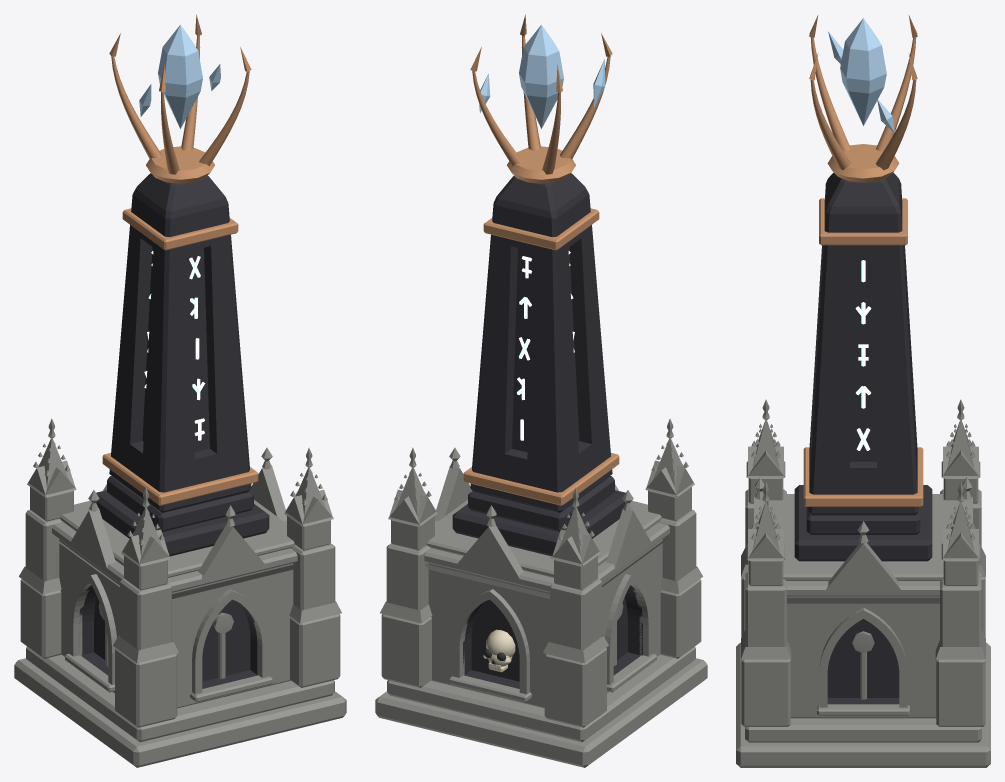
File: tower_storm_1.glb
3 renders of one model, left to right at view 1: azimuth 30°, elevation 25°; view 2: azimuth 150°, elevation 25°; view 3: azimuth 270°, elevation 25°, orthographic. The views are drawn at different scales.
Parts seen in each view (by area): view 1: tower, crystal; view 2: tower, crystal; view 3: tower, crystal.
Part boxes in pixels (left/top/right/bottom): tower: left=14, top=14, right=346, bottom=767; crystal: left=139, top=24, right=220, bottom=128; tower: left=375, top=14, right=707, bottom=767; crystal: left=479, top=24, right=605, bottom=128; tower: left=736, top=15, right=990, bottom=767; crystal: left=828, top=18, right=894, bottom=132.
Bounding box in the file's own units: 1.7 × 5.14 × 1.7.
